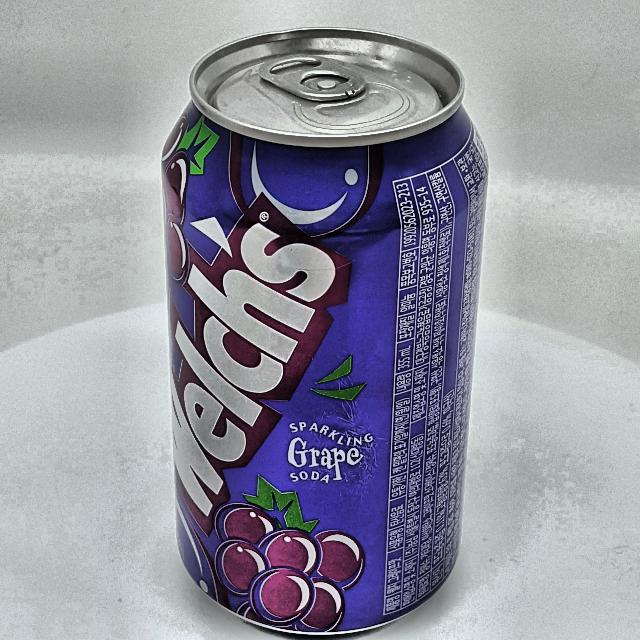welchs: (161, 29, 488, 632)
